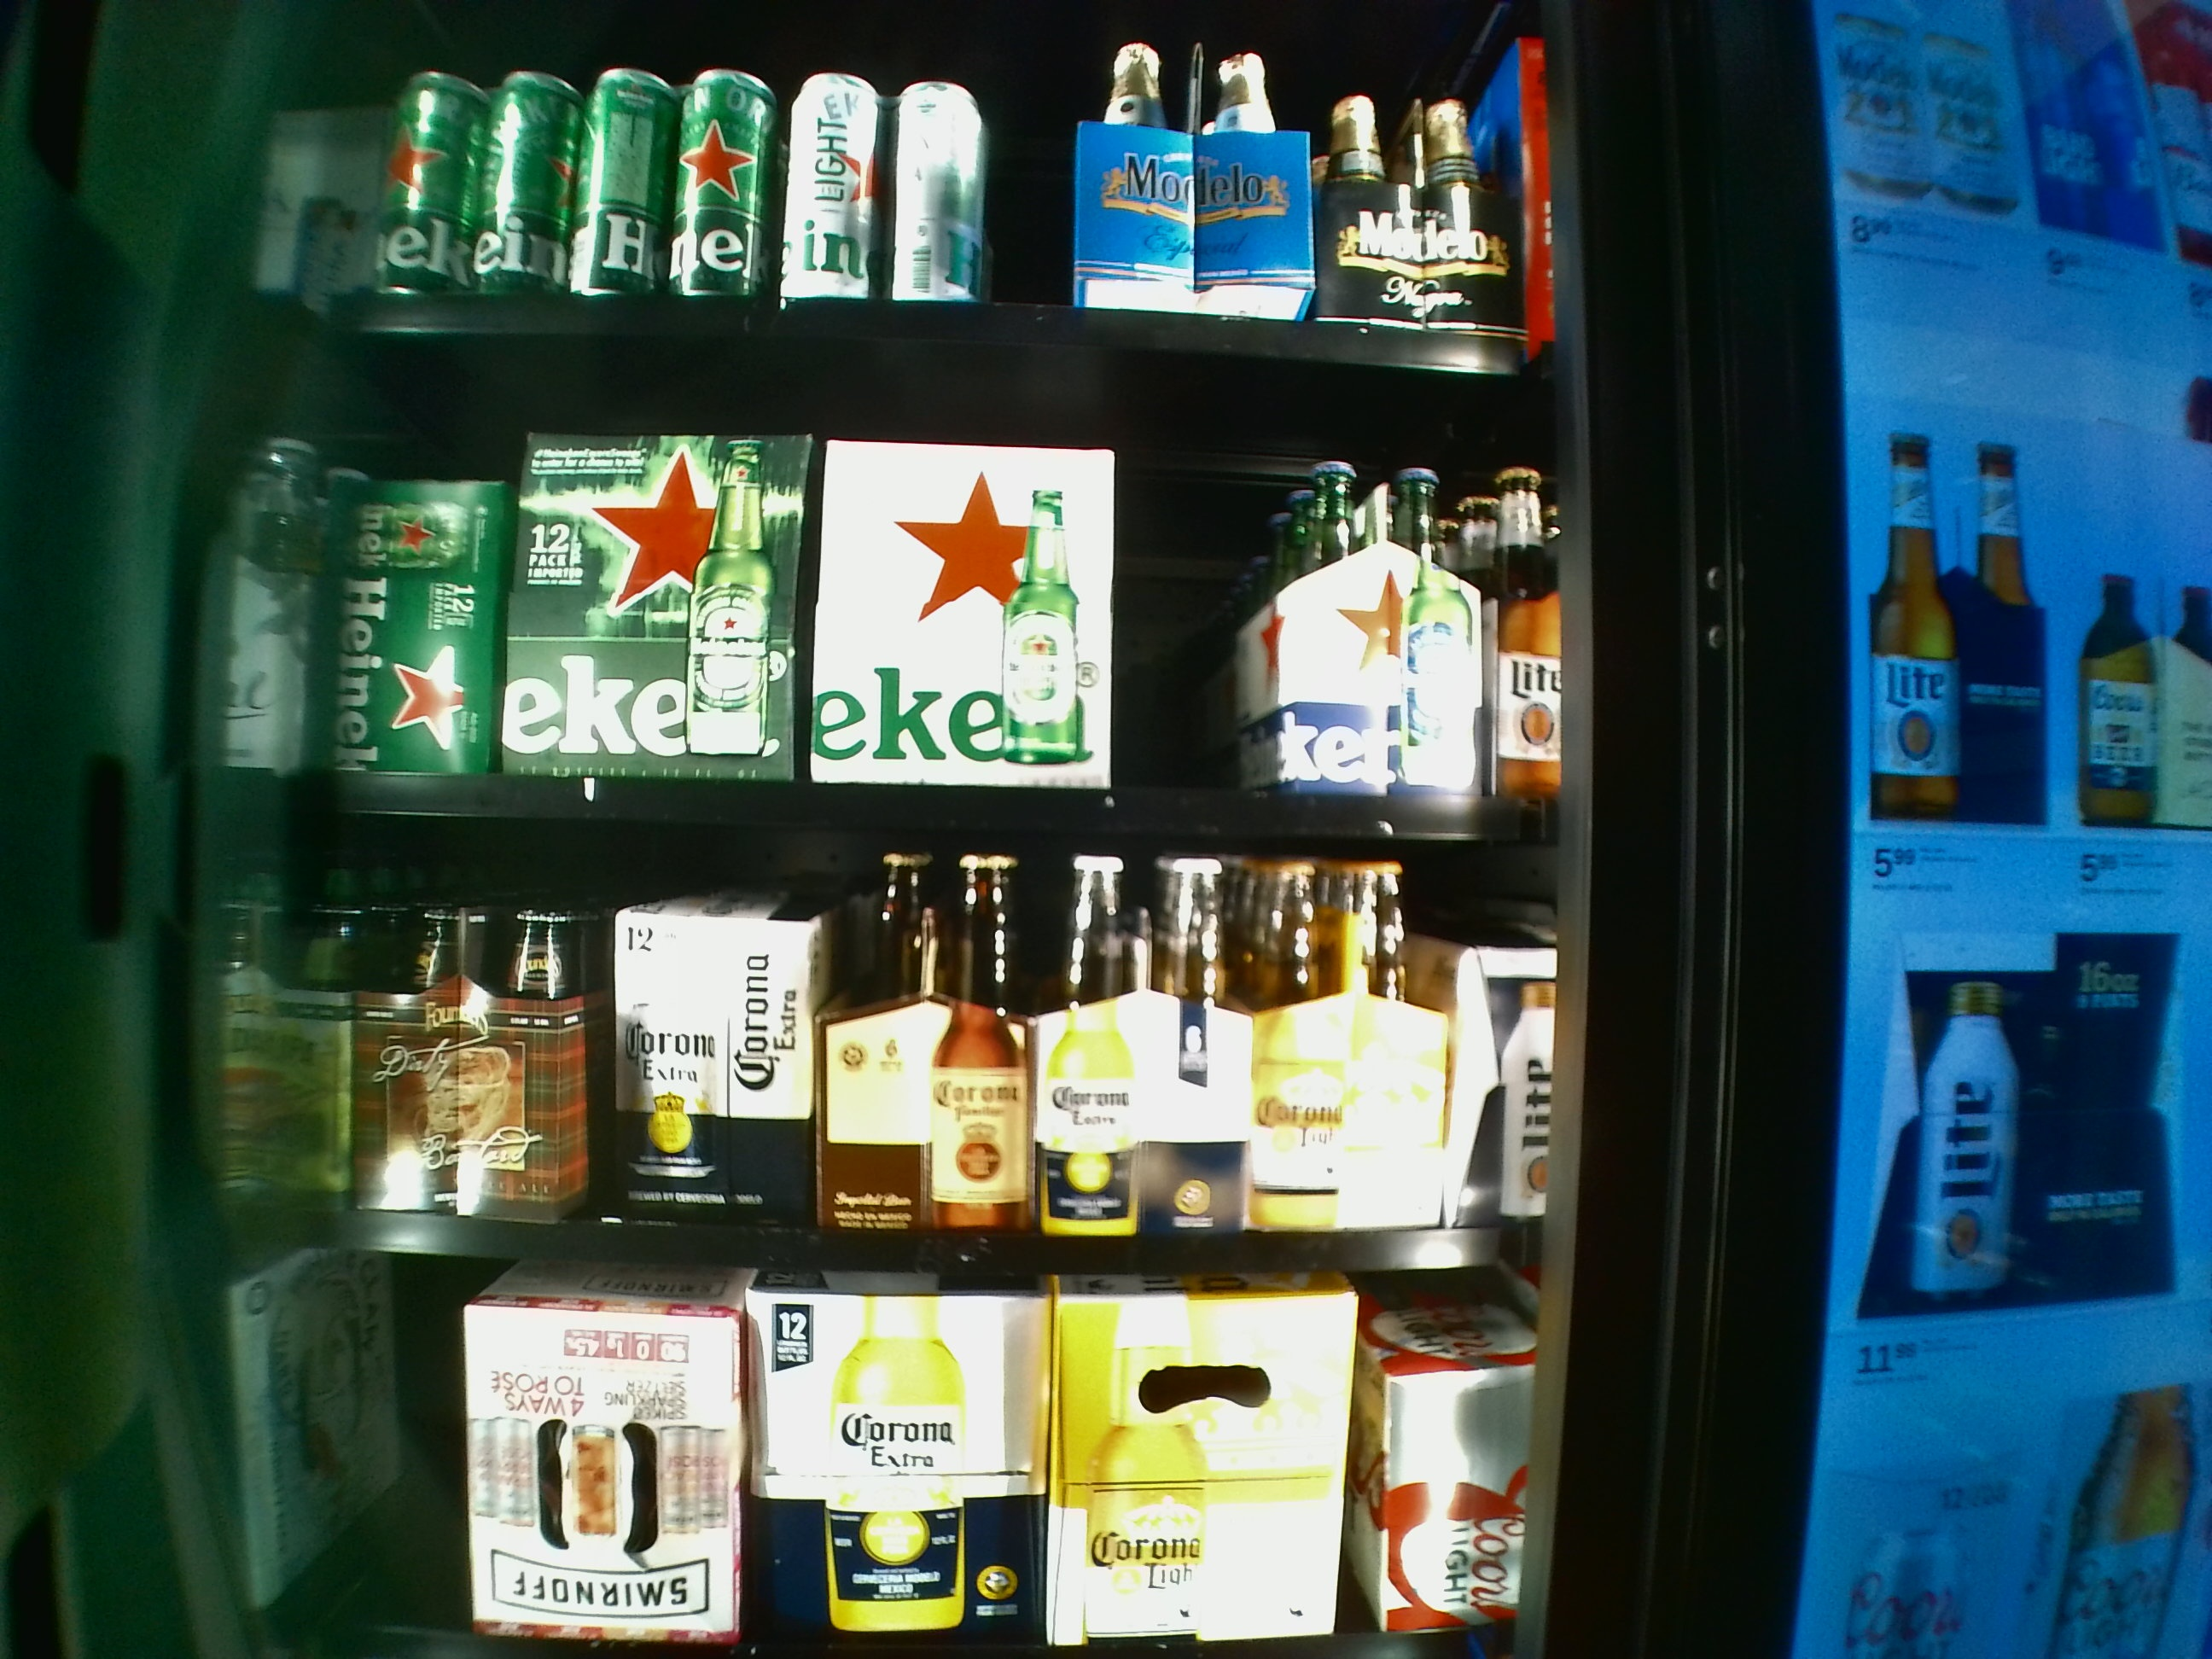shelf: (225, 331, 1529, 842), (211, 854, 1543, 1276)
